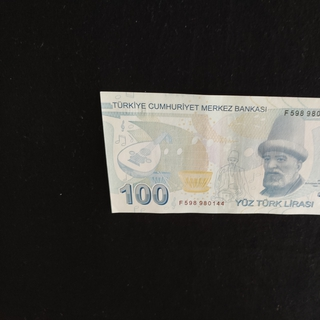100TLBack: (99, 90, 320, 217)
